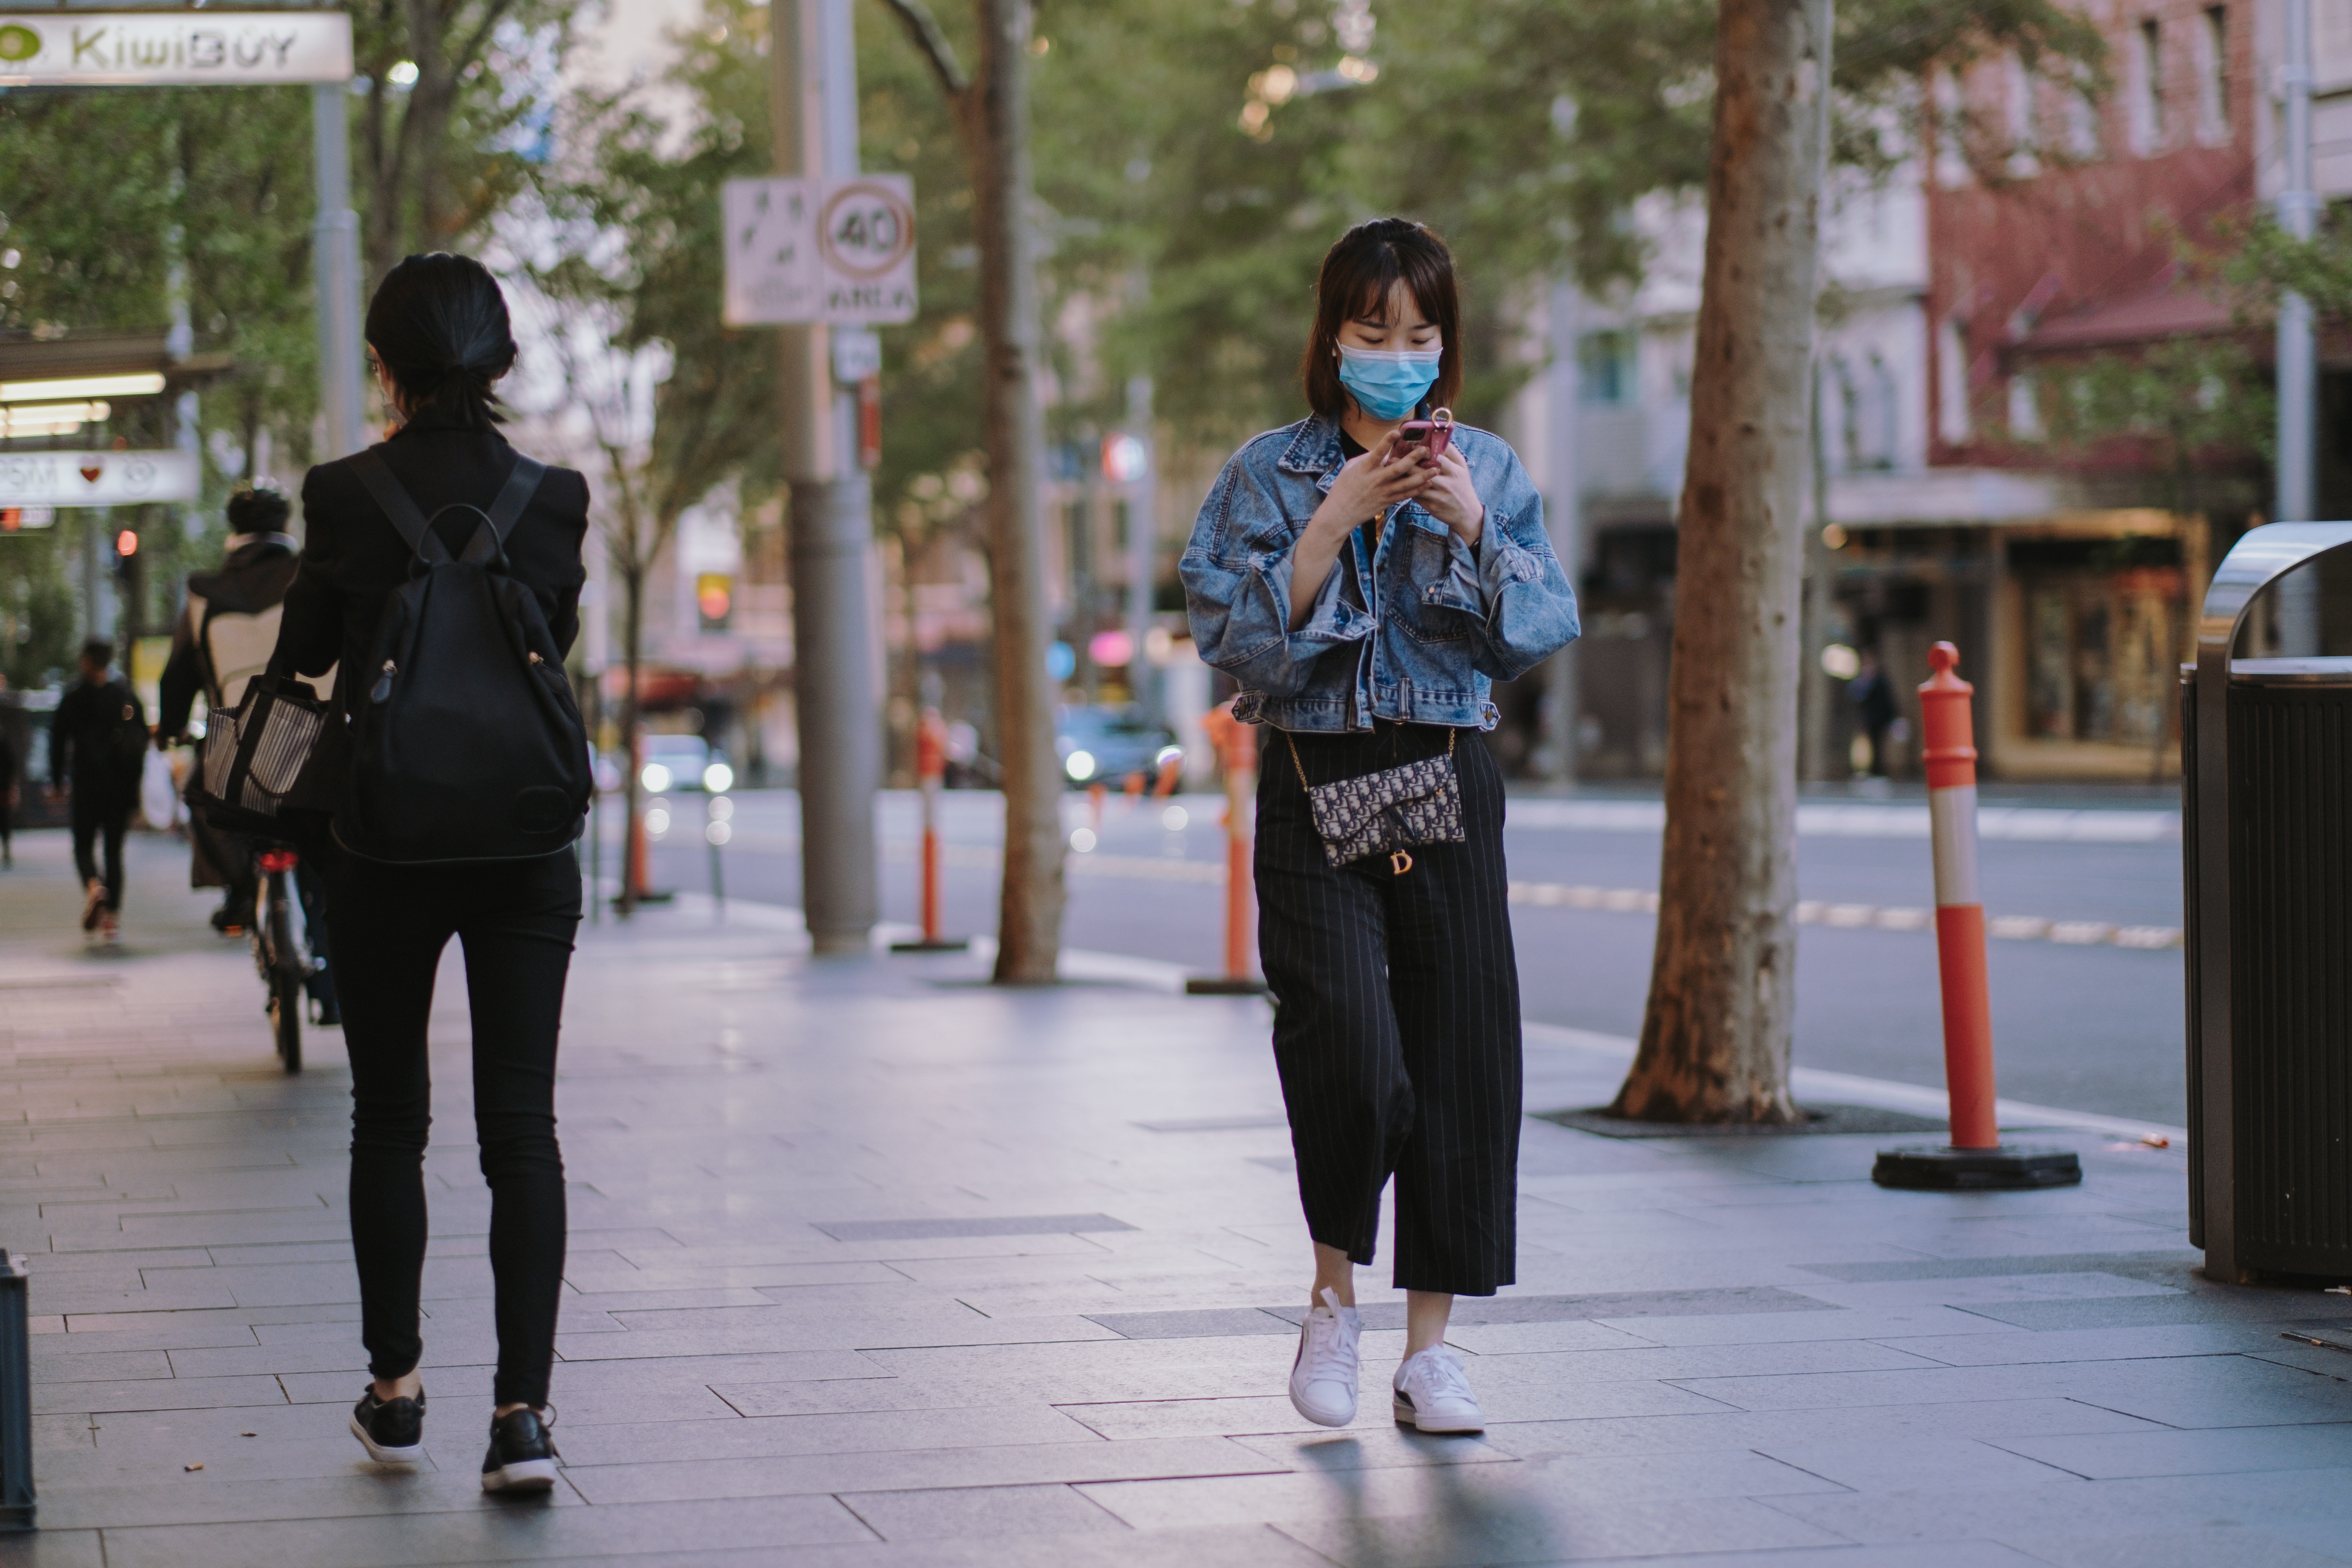mask: (1327, 352, 1449, 416)
person: (273, 242, 654, 1508), (1186, 190, 1566, 1455)
